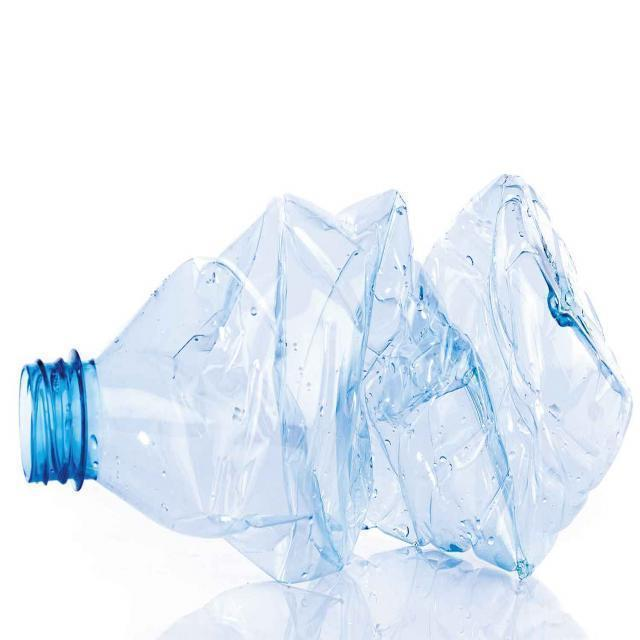Plastic: (17, 170, 630, 586)
